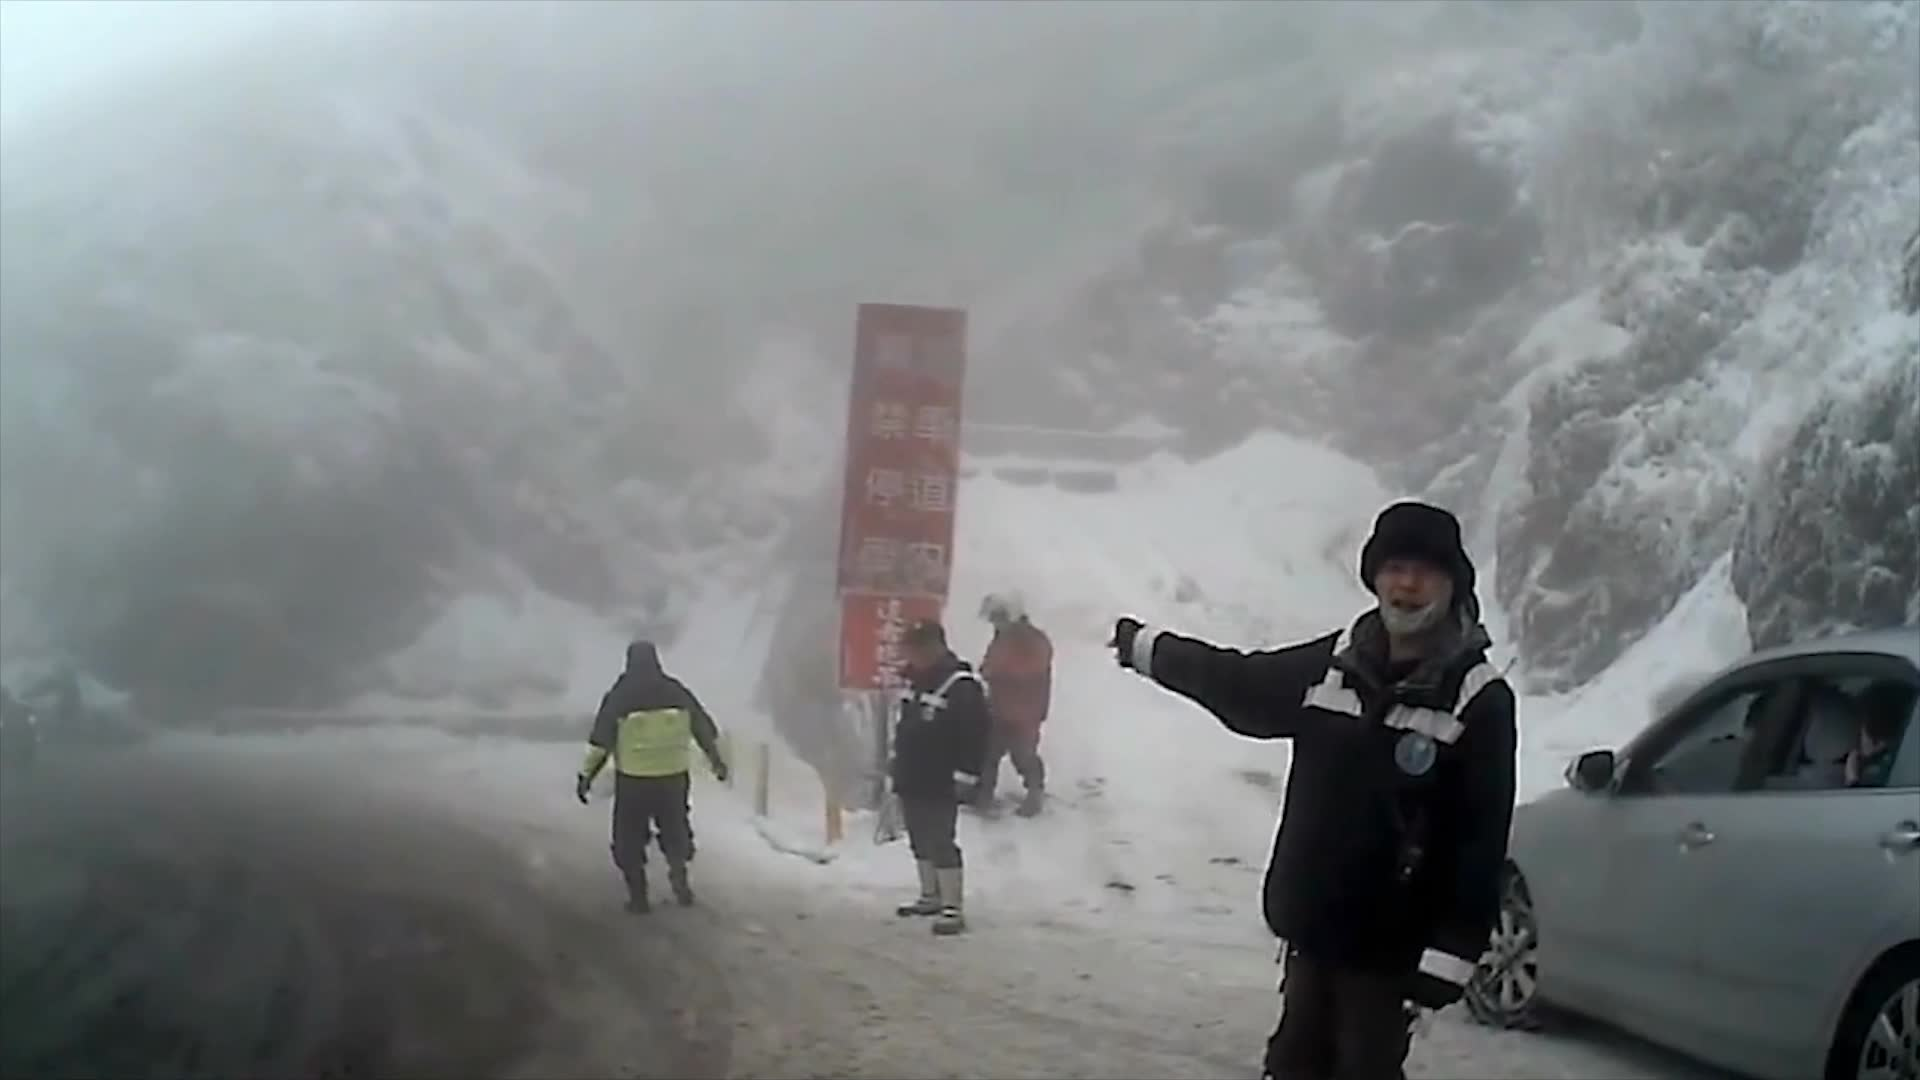pedestrian: (1113, 491, 1516, 1079), (584, 635, 724, 911), (891, 615, 997, 936), (978, 585, 1067, 816)
vehicle: (1439, 627, 1918, 1079)
